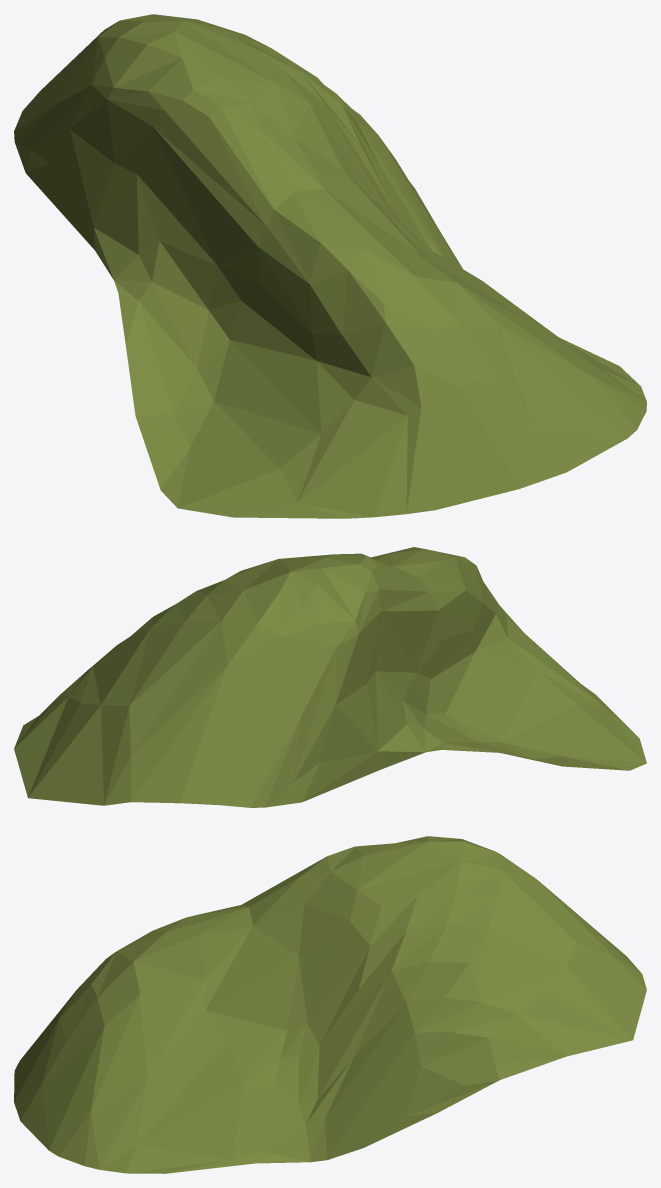
File: Terrain_Mound_Incline-03.FBX
3 views of the same model, one above another, from view 1: azimuth 30°, elevation 25°; view 2: azimuth 150°, elevation 25°; view 3: azimuth 270°, elevation 25° (orthographic). The views are drawn at different scales.
Parts seen in each view (by area): view 1: Terrain_Mound_Incline-03; view 2: Terrain_Mound_Incline-03; view 3: Terrain_Mound_Incline-03.
Boxes of the visible parts, x1=… form: Terrain_Mound_Incline-03: x1=14, y1=14, x2=646, y2=518; Terrain_Mound_Incline-03: x1=14, y1=547, x2=646, y2=807; Terrain_Mound_Incline-03: x1=14, y1=836, x2=646, y2=1173.
Bounding box in the file's own units: 4168 × 2515 × 6188.
1 material, 1 textured.
